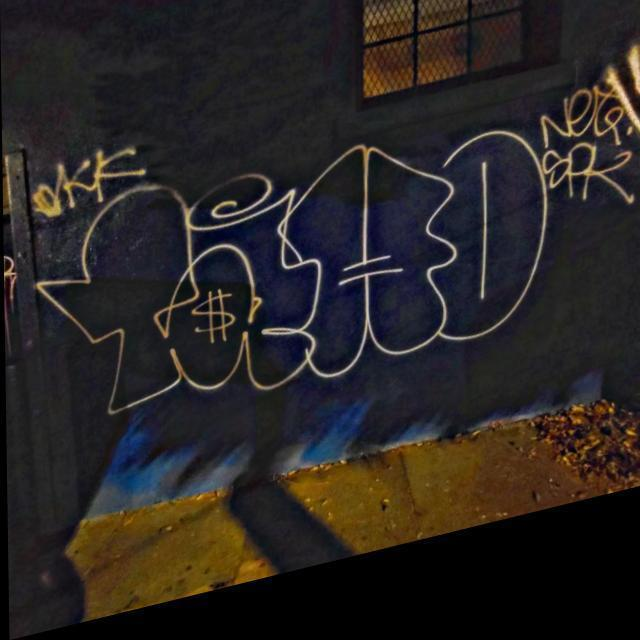nonspitting: (33, 127, 548, 415), (537, 49, 640, 208), (28, 144, 148, 218)
